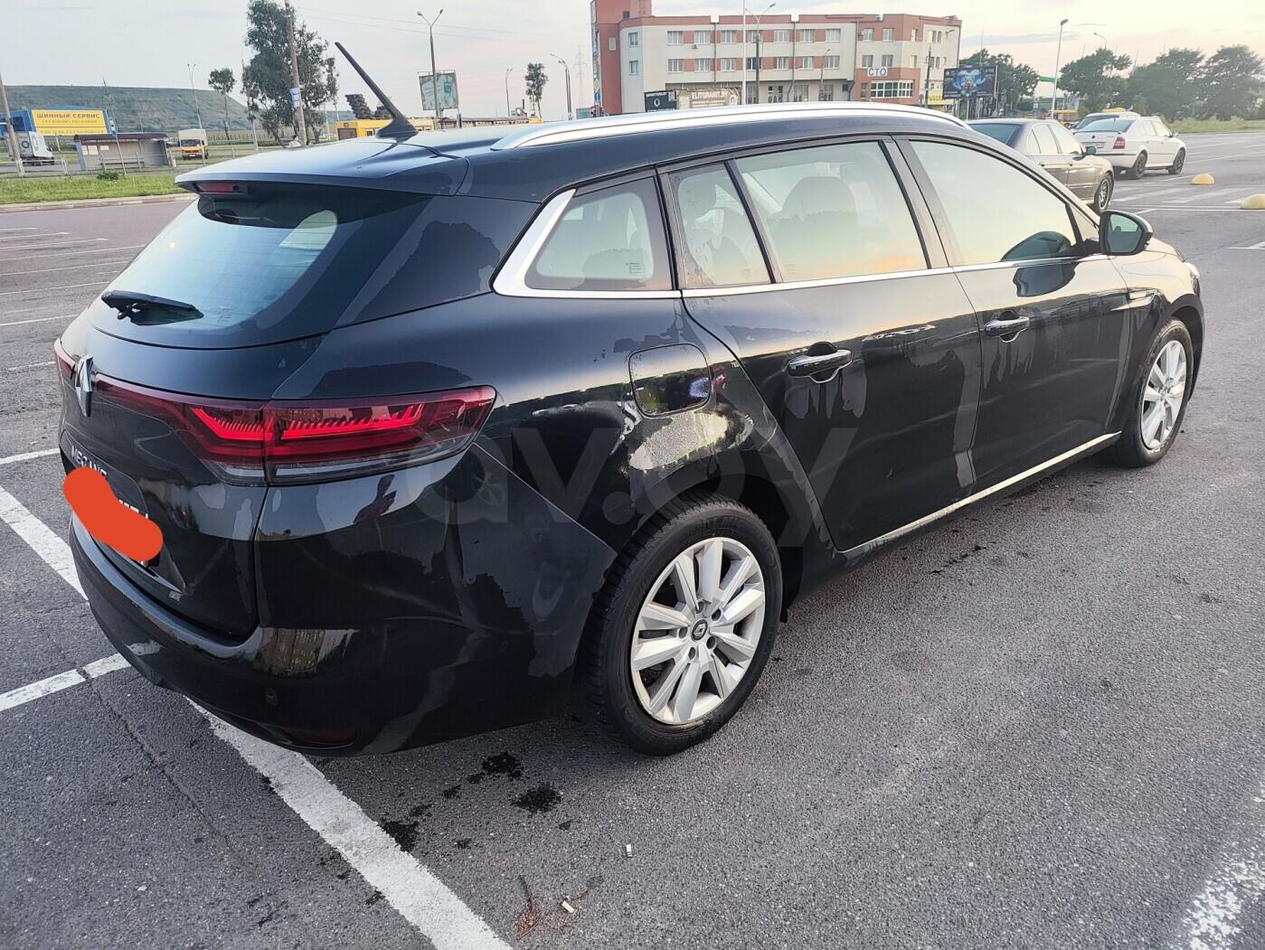Megane_2020: (36, 94, 1222, 771)
